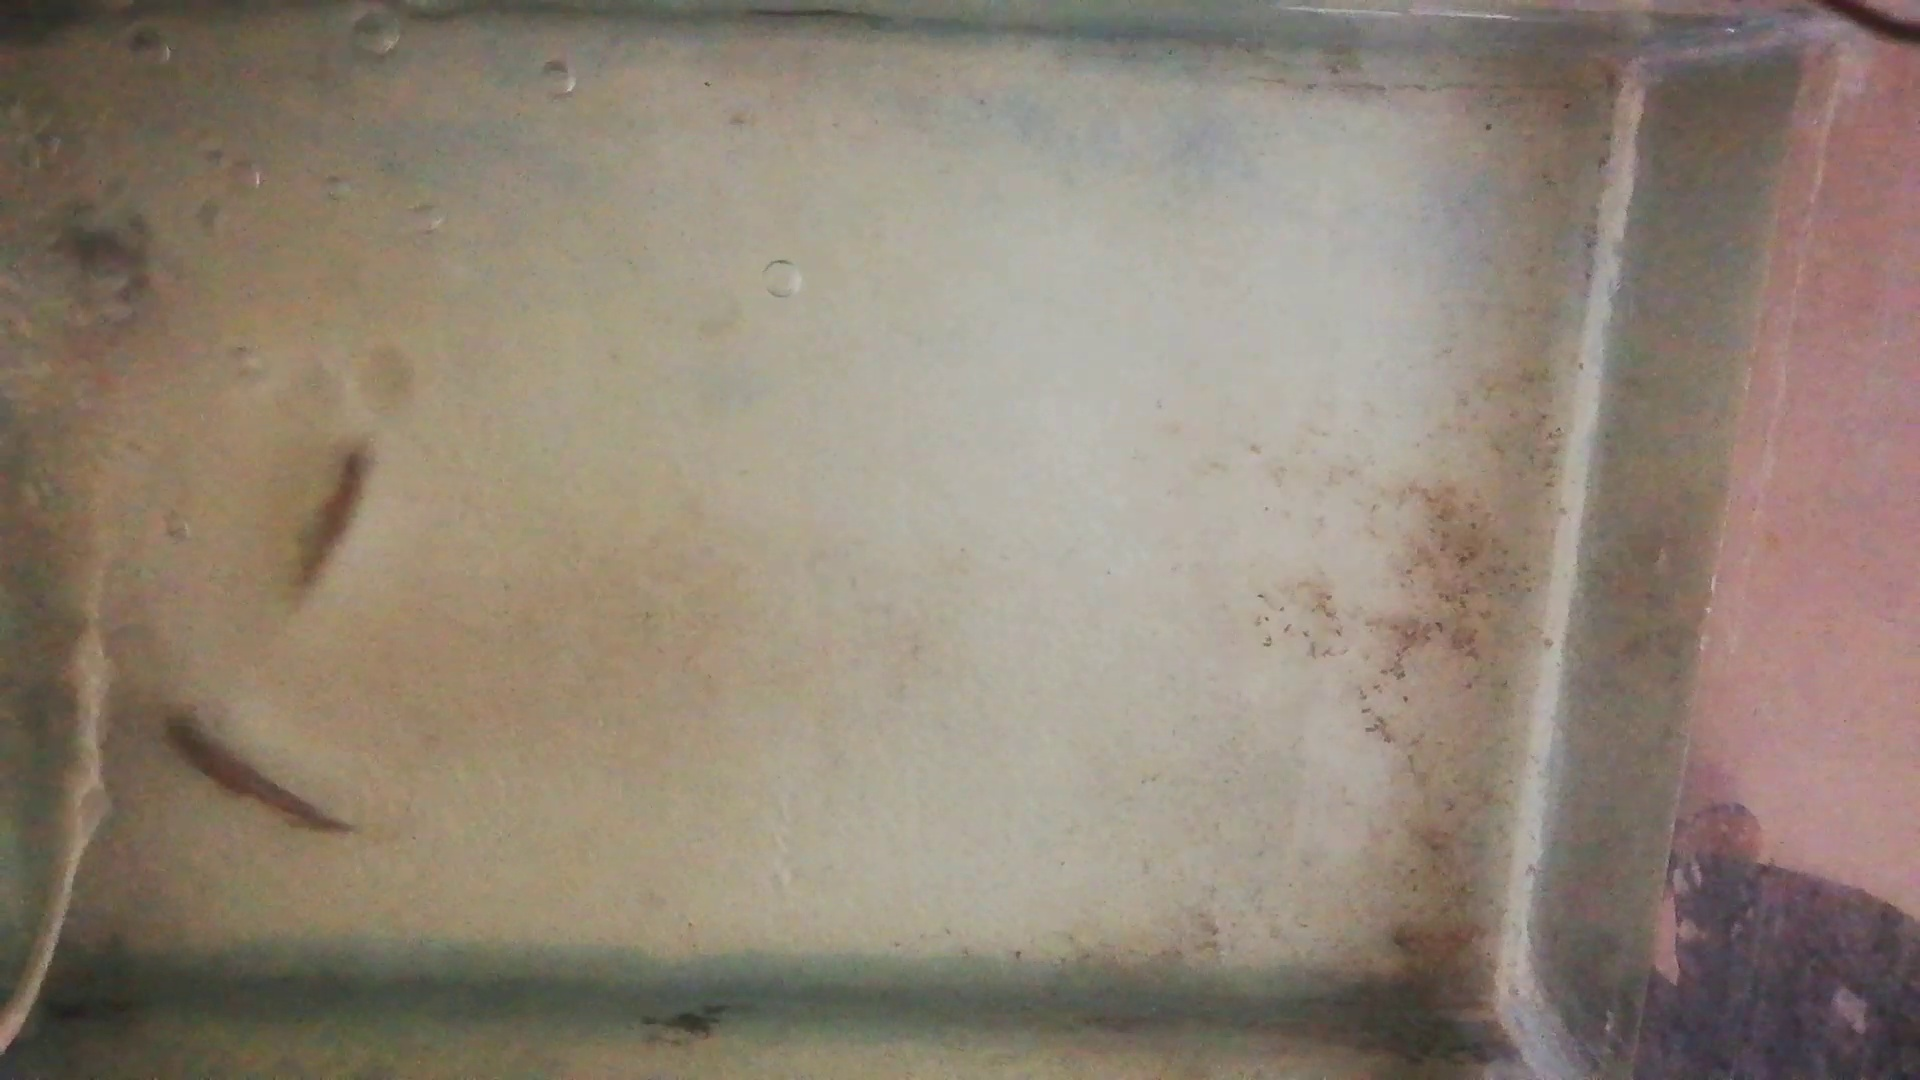fish: (156, 709, 345, 833), (285, 438, 380, 600)
